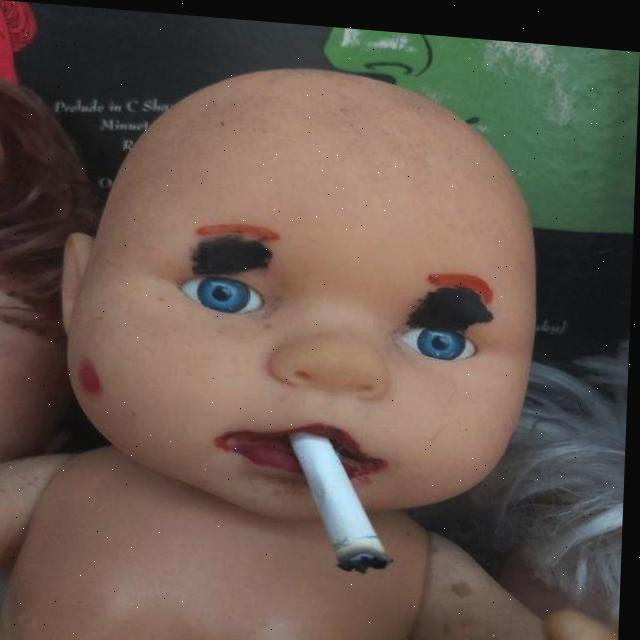cigarette: (292, 425, 400, 569)
